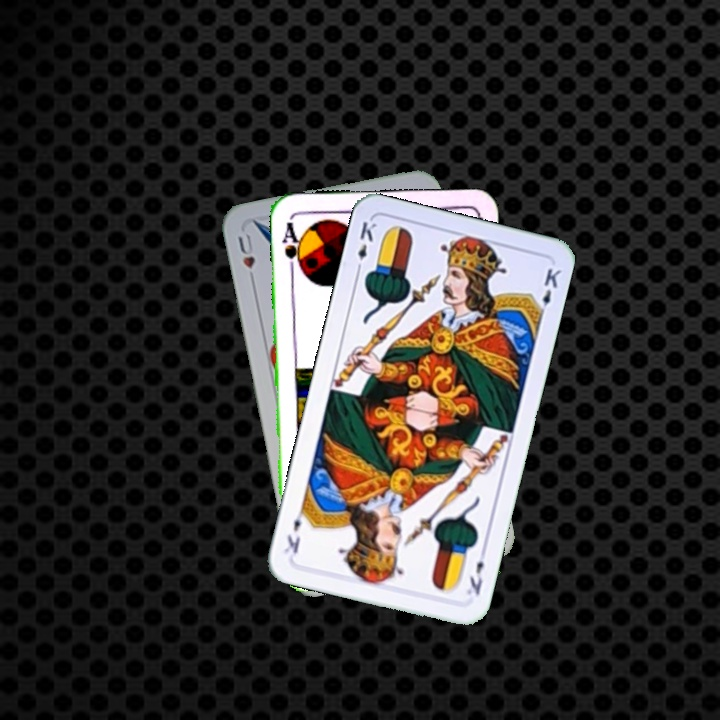EK: (352, 217, 380, 276), (463, 544, 489, 598)
HU: (234, 229, 258, 287)
SA: (278, 218, 305, 276)
